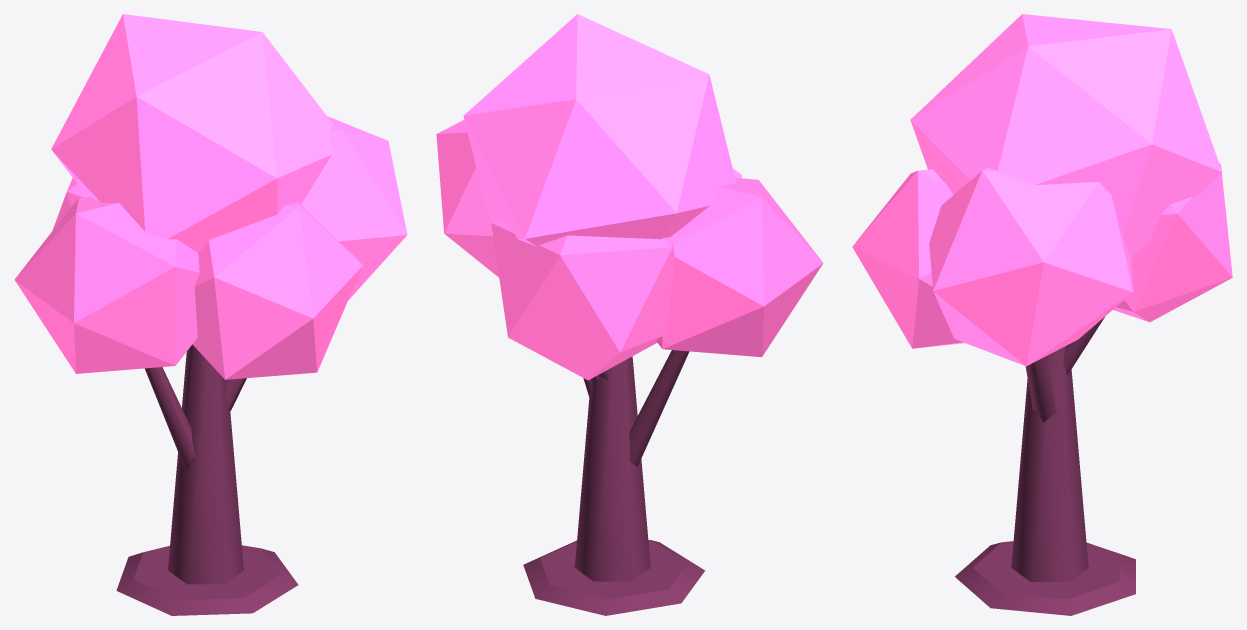
The model's file is Tree_Neon_Rose.glb.
3 renders of one model, left to right at view 1: azimuth 30°, elevation 25°; view 2: azimuth 150°, elevation 25°; view 3: azimuth 270°, elevation 25°, orthographic.
Parts seen in each view (by area): view 1: Tree_Neon_Rose; view 2: Tree_Neon_Rose; view 3: Tree_Neon_Rose.
Part boxes in pixels (bbox=[...]): Tree_Neon_Rose: bbox=[14, 14, 407, 615]; Tree_Neon_Rose: bbox=[436, 14, 823, 615]; Tree_Neon_Rose: bbox=[852, 14, 1232, 615].
Size of the model in its own units: 2.48 by 3.68 by 2.29.
